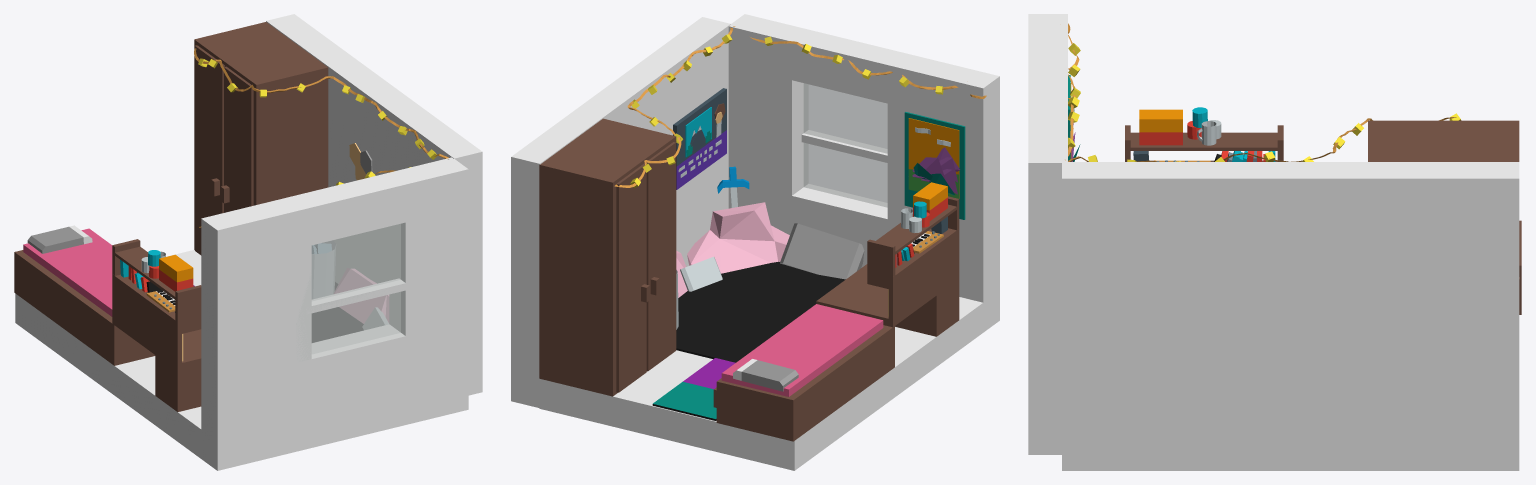
Rendered from scene_QC3M4FEuzr.glb.
3 views of the same model, side by side, from view 1: azimuth 30°, elevation 25°; view 2: azimuth 150°, elevation 25°; view 3: azimuth 270°, elevation 25° (orthographic). The views are drawn at different scales.
Parts seen in each view (by area): view 1: group406416583, group668727079, group1399363308, group477968453, group687686358, group1894255618, group2116589448, group1222524590, group1729356385, group43770598, group27353952, group1706327752 (+7 smaller); view 2: group406416583, group1399363308, group668727079, group477968453, group1337729681, group43770598, group687686358, group1894255618, group1729356385, group1222524590, group2116589448, group1563604827 (+11 smaller); view 3: group668727079, group406416583, group1399363308, group932558169, group1110290923, group1524042262.
Boxes of the visible parts, x1,y1,x2,y2 form: group406416583: (201, 157, 468, 470); group668727079: (266, 14, 482, 395); group1399363308: (194, 22, 328, 249); group477968453: (14, 250, 201, 411); group687686358: (296, 223, 405, 360); group1894255618: (195, 45, 224, 255); group2116589448: (85, 346, 201, 458); group1222524590: (224, 66, 253, 212); group1729356385: (23, 228, 112, 316); group43770598: (15, 250, 201, 373); group27353952: (306, 278, 405, 314); group1706327752: (334, 268, 388, 323); group406416583: (728, 14, 999, 332); group1399363308: (539, 118, 676, 396); group668727079: (511, 17, 730, 407); group477968453: (716, 228, 959, 441); group1337729681: (652, 261, 845, 420); group43770598: (539, 350, 866, 470); group687686358: (803, 83, 887, 207); group1894255618: (616, 163, 646, 392); group1729356385: (721, 304, 883, 396); group1222524590: (646, 142, 675, 370); group2116589448: (865, 297, 983, 418); group1563604827: (687, 202, 789, 273); group668727079: (1062, 162, 1519, 470); group406416583: (1028, 14, 1067, 454); group1399363308: (1368, 120, 1519, 161); group932558169: (1129, 125, 1283, 161); group1110290923: (1139, 109, 1182, 132); group1524042262: (1139, 132, 1182, 145).
Bounding box in the file's own units: 2.03 × 1.69 × 2.53.
